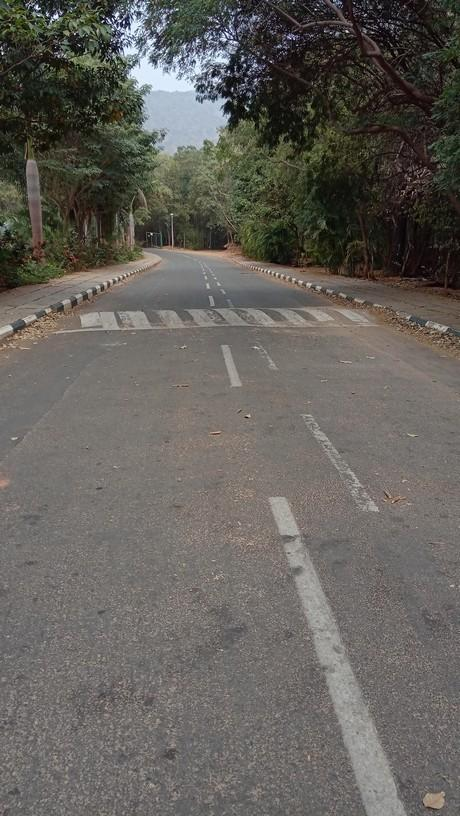speed-bump: (49, 305, 386, 337)
